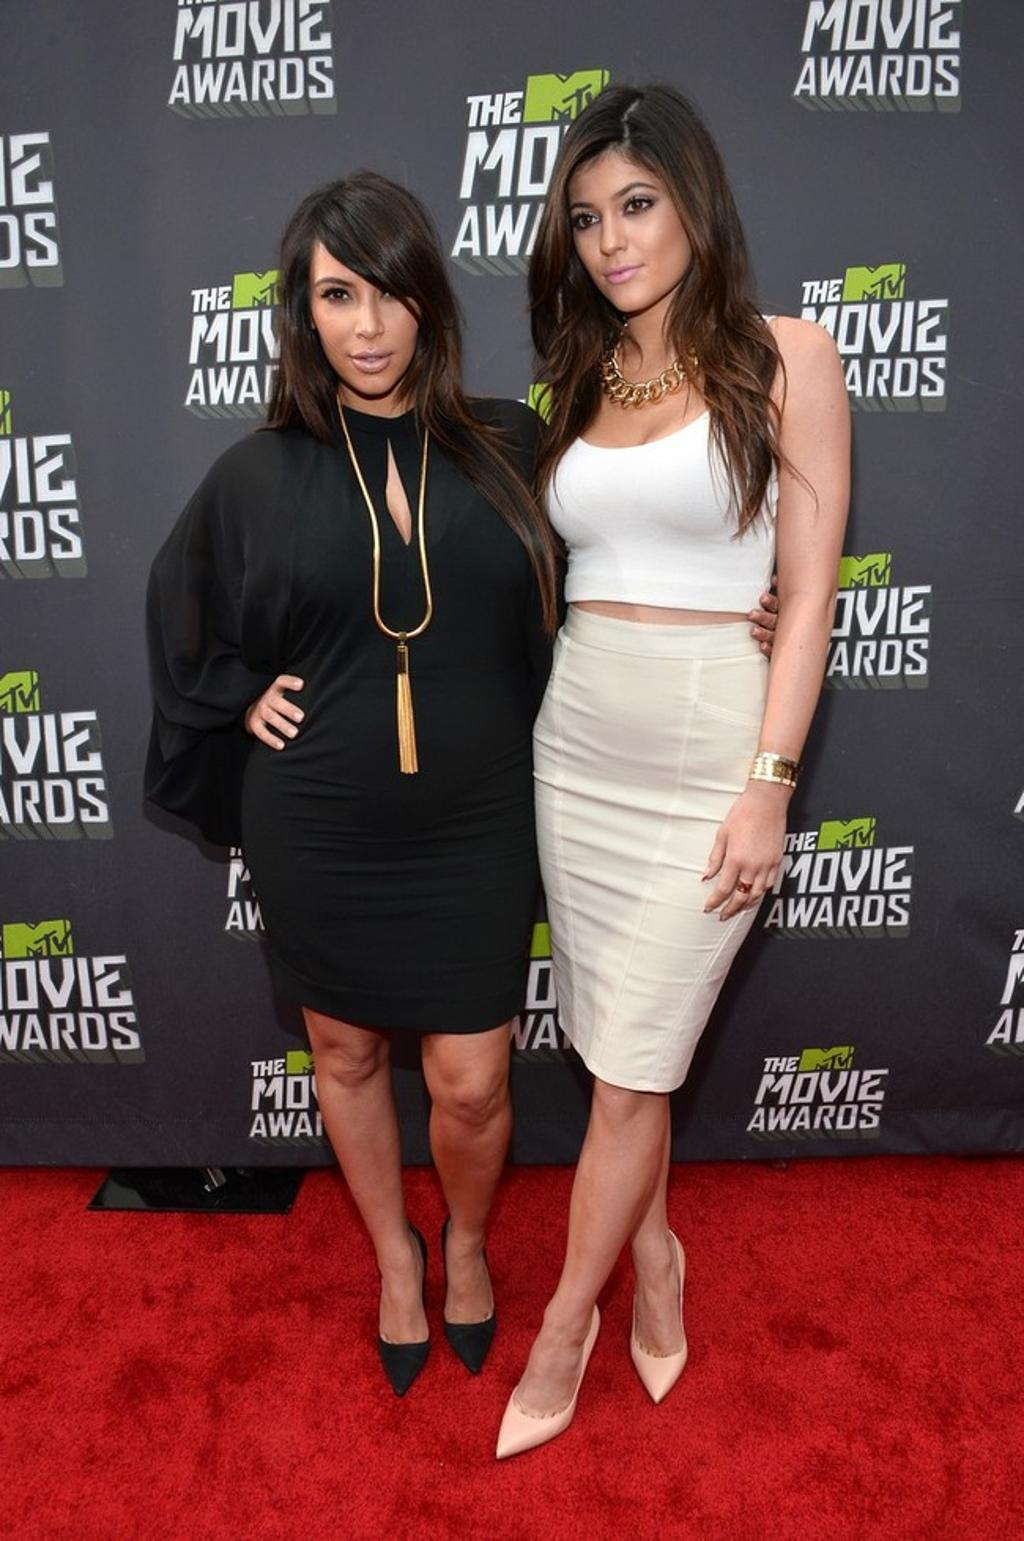face: (569, 154, 683, 311), (310, 232, 412, 395)
